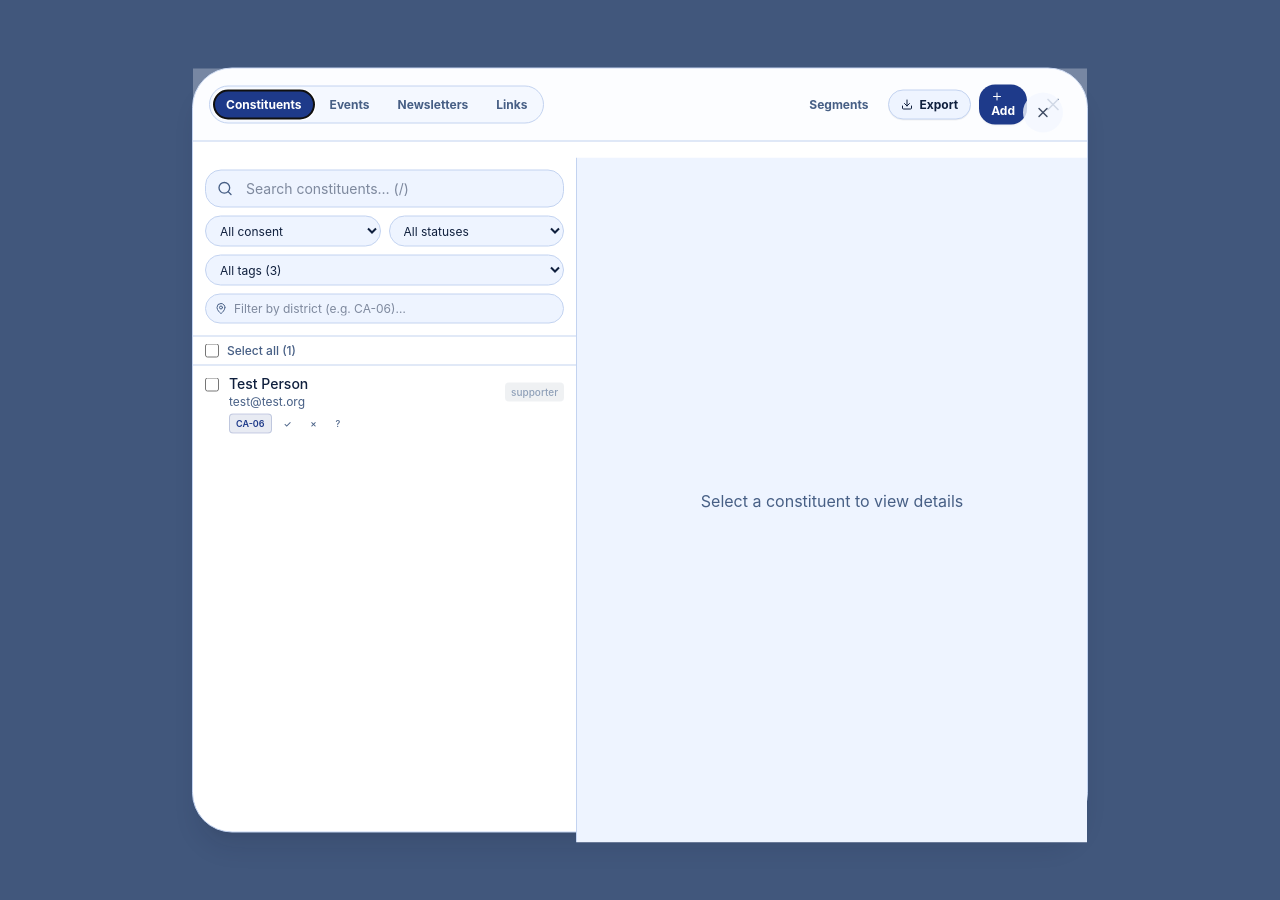
Scenario: CRMPanel › clearing the applied segment returns to manual filters
This screenshot has width=1280, height=900.
Click the button "Segments" at x=839, y=104, box 797,90 -> 880,118
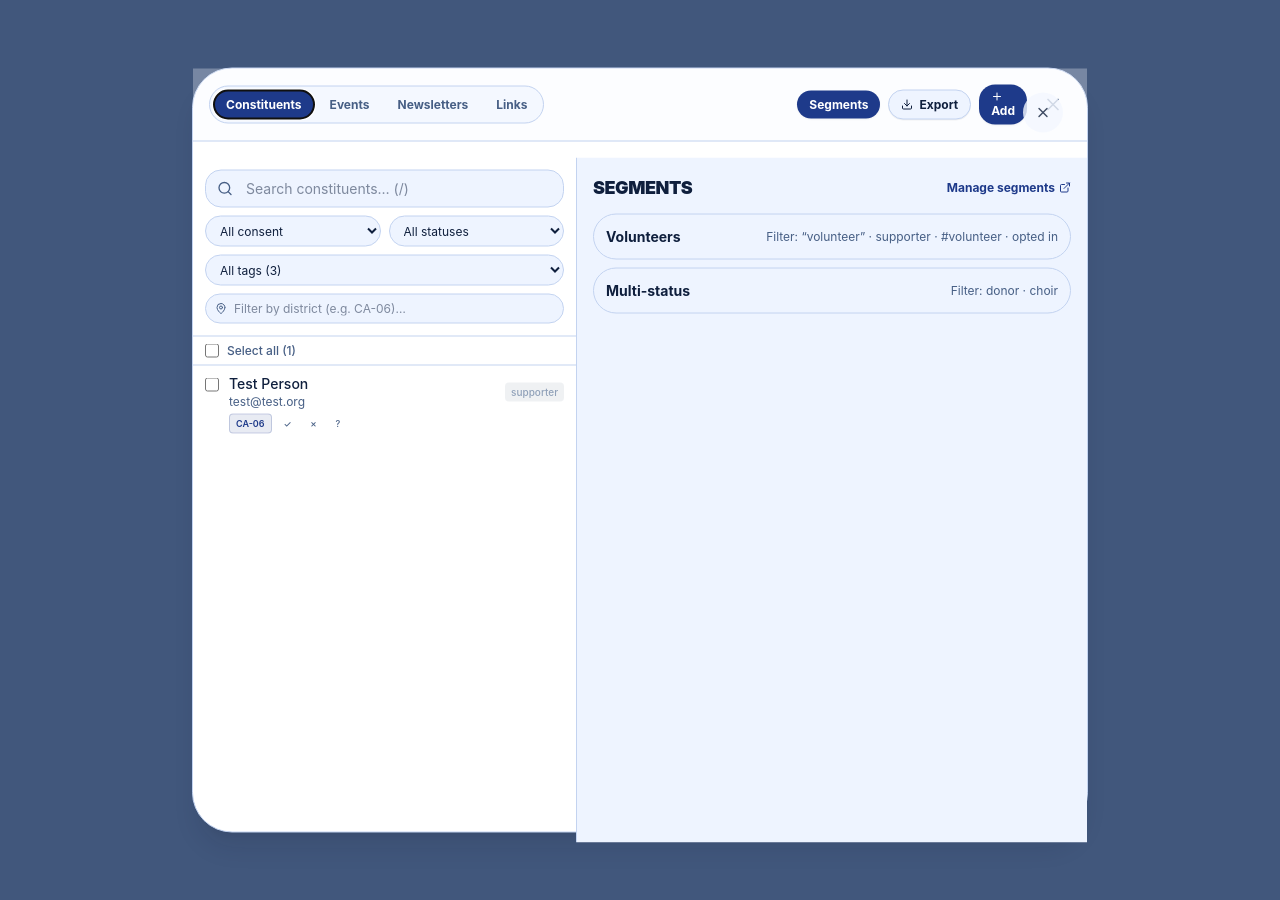
Click the button that starts with "Volunteers" at x=832, y=236, box 593,214 -> 1071,260
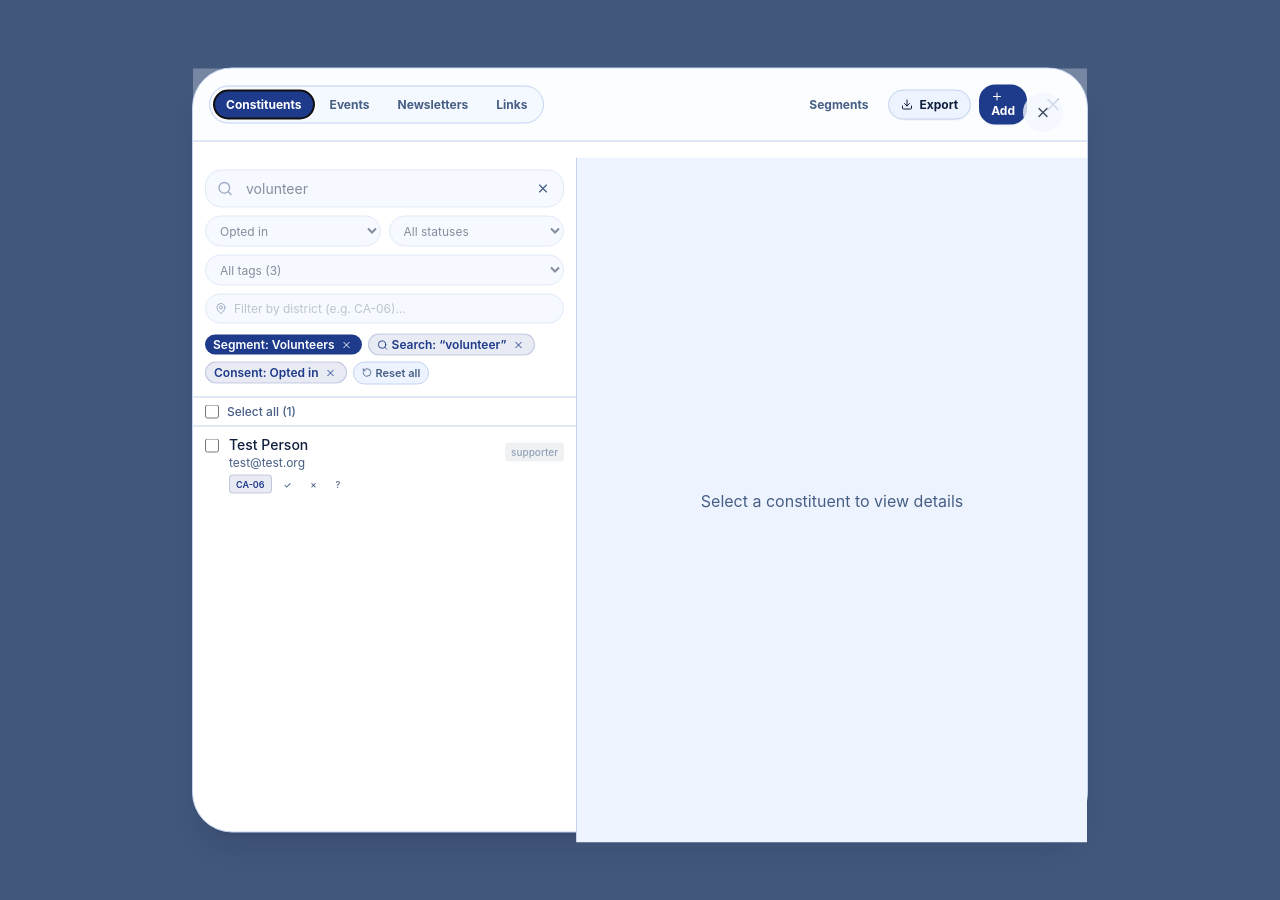
Expected: the text "Segment: Volunteers" is shown, 213,336 -> 335,352
Expected: the button named "Clear applied segment" is shown
Click the button named "Clear applied segment" at x=346, y=344, box 339,337 -> 354,352
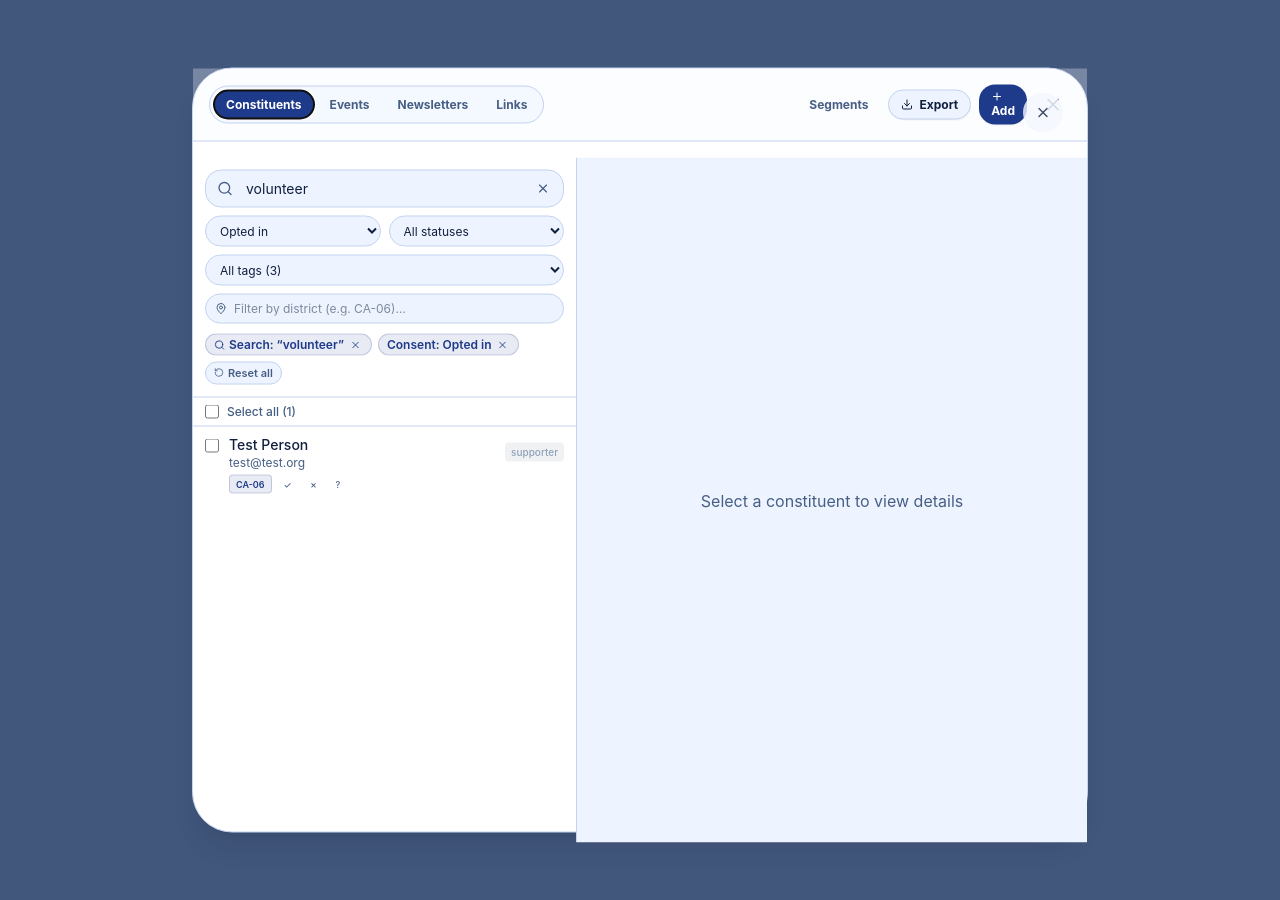
Expected: the text "Segment: Volunteers" is gone
